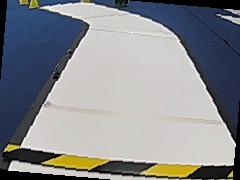bump: (0, 146, 231, 180)
